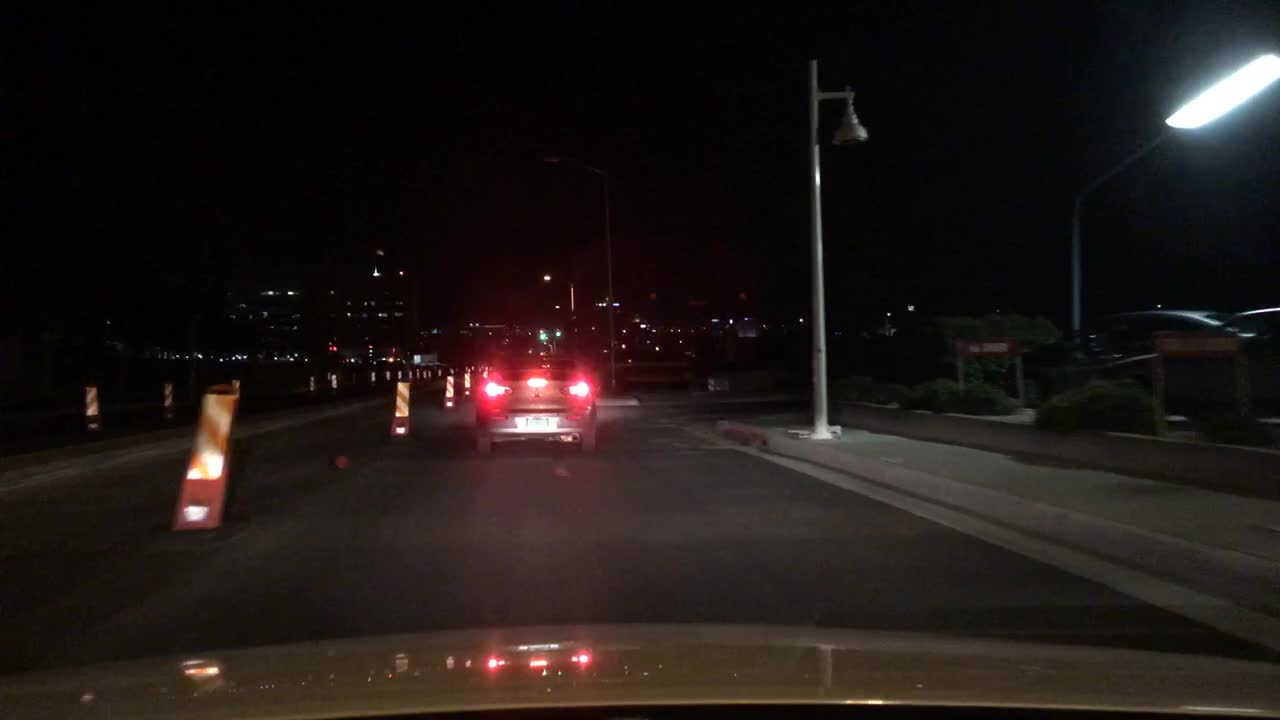car: (472, 346, 599, 462), (1151, 304, 1279, 411), (1084, 301, 1246, 377)
traffic sign: (957, 340, 1015, 354)
